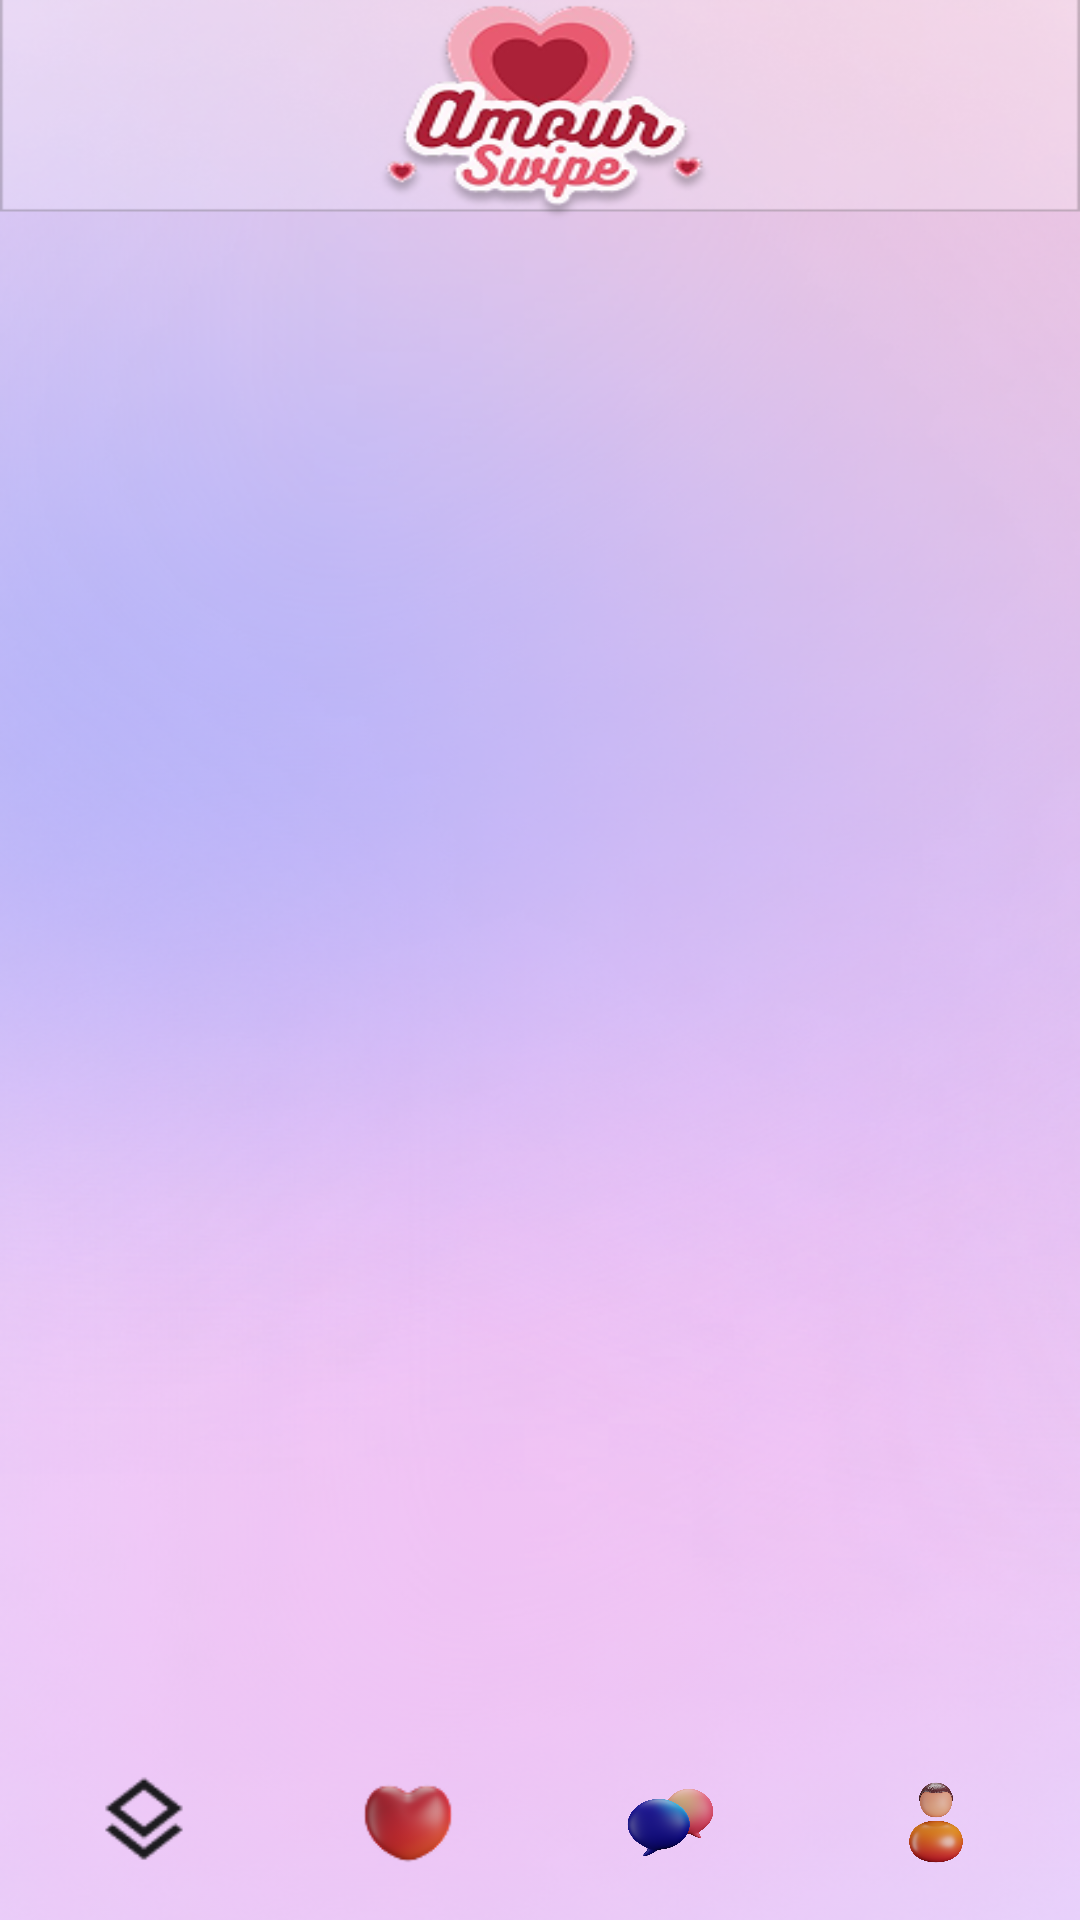

Icon bounding boxes for this 1080px x 1920px phone screenshot, format [x1=x1, y1=y1, x2=x2, y2=y2]:
chat: [x1=628, y1=1789, x2=713, y2=1856]
heart: [x1=364, y1=1786, x2=452, y2=1862]
profile: [x1=909, y1=1783, x2=963, y2=1863]
